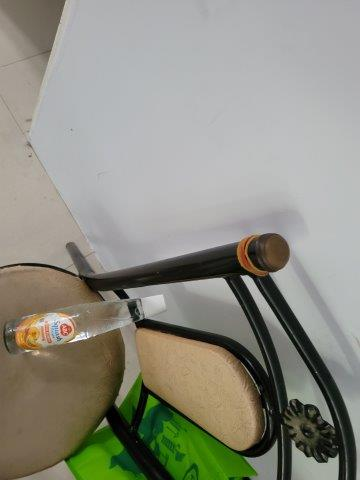botolkaca: (4, 294, 167, 356)
